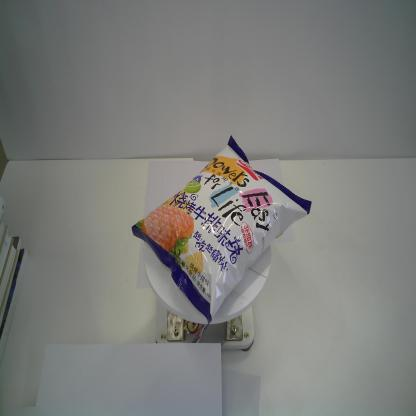Puffed Food: (130, 133, 312, 324)
